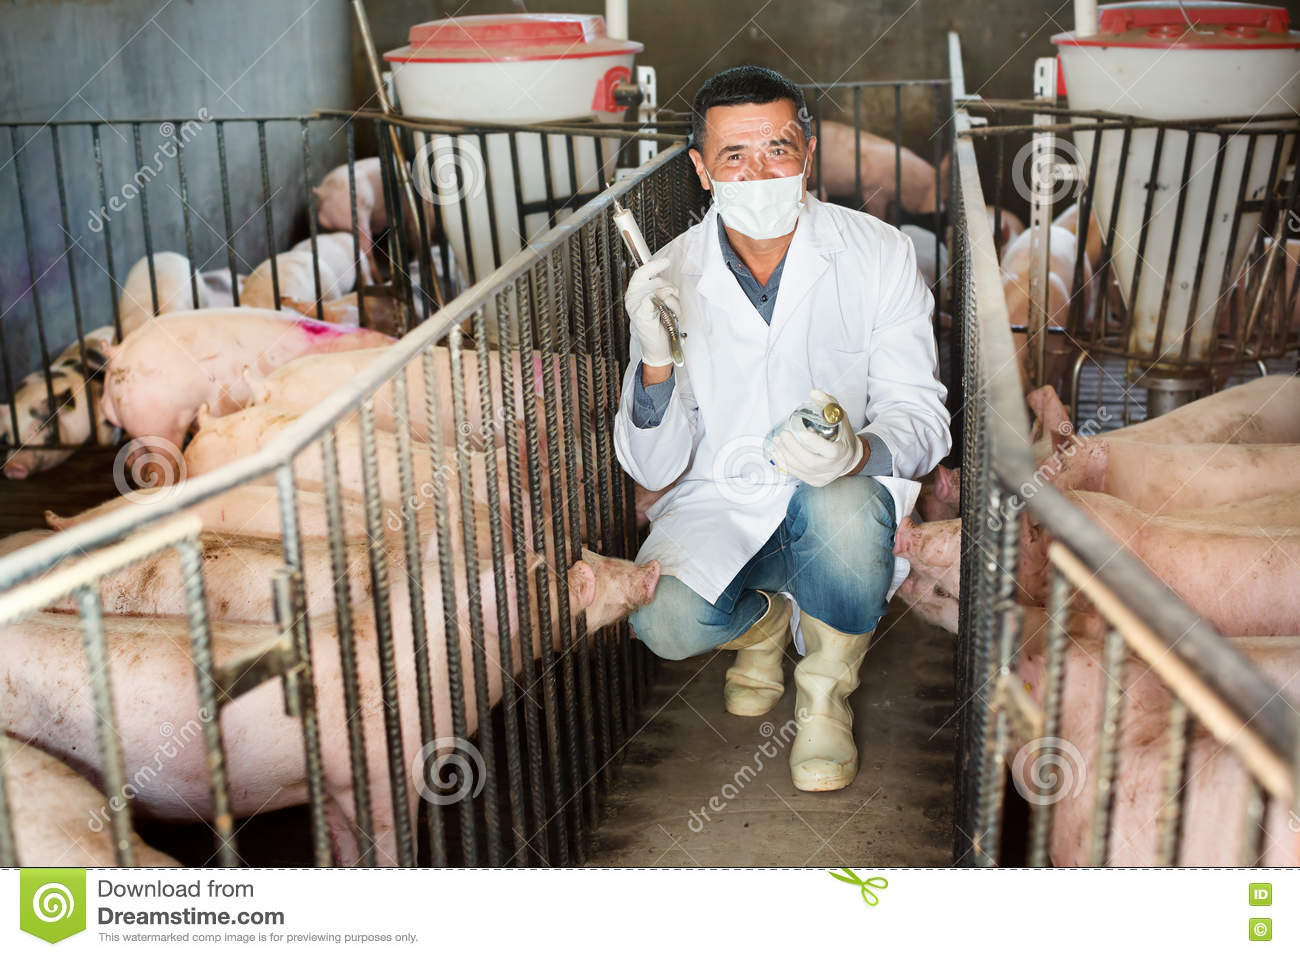mask: (709, 175, 806, 241)
